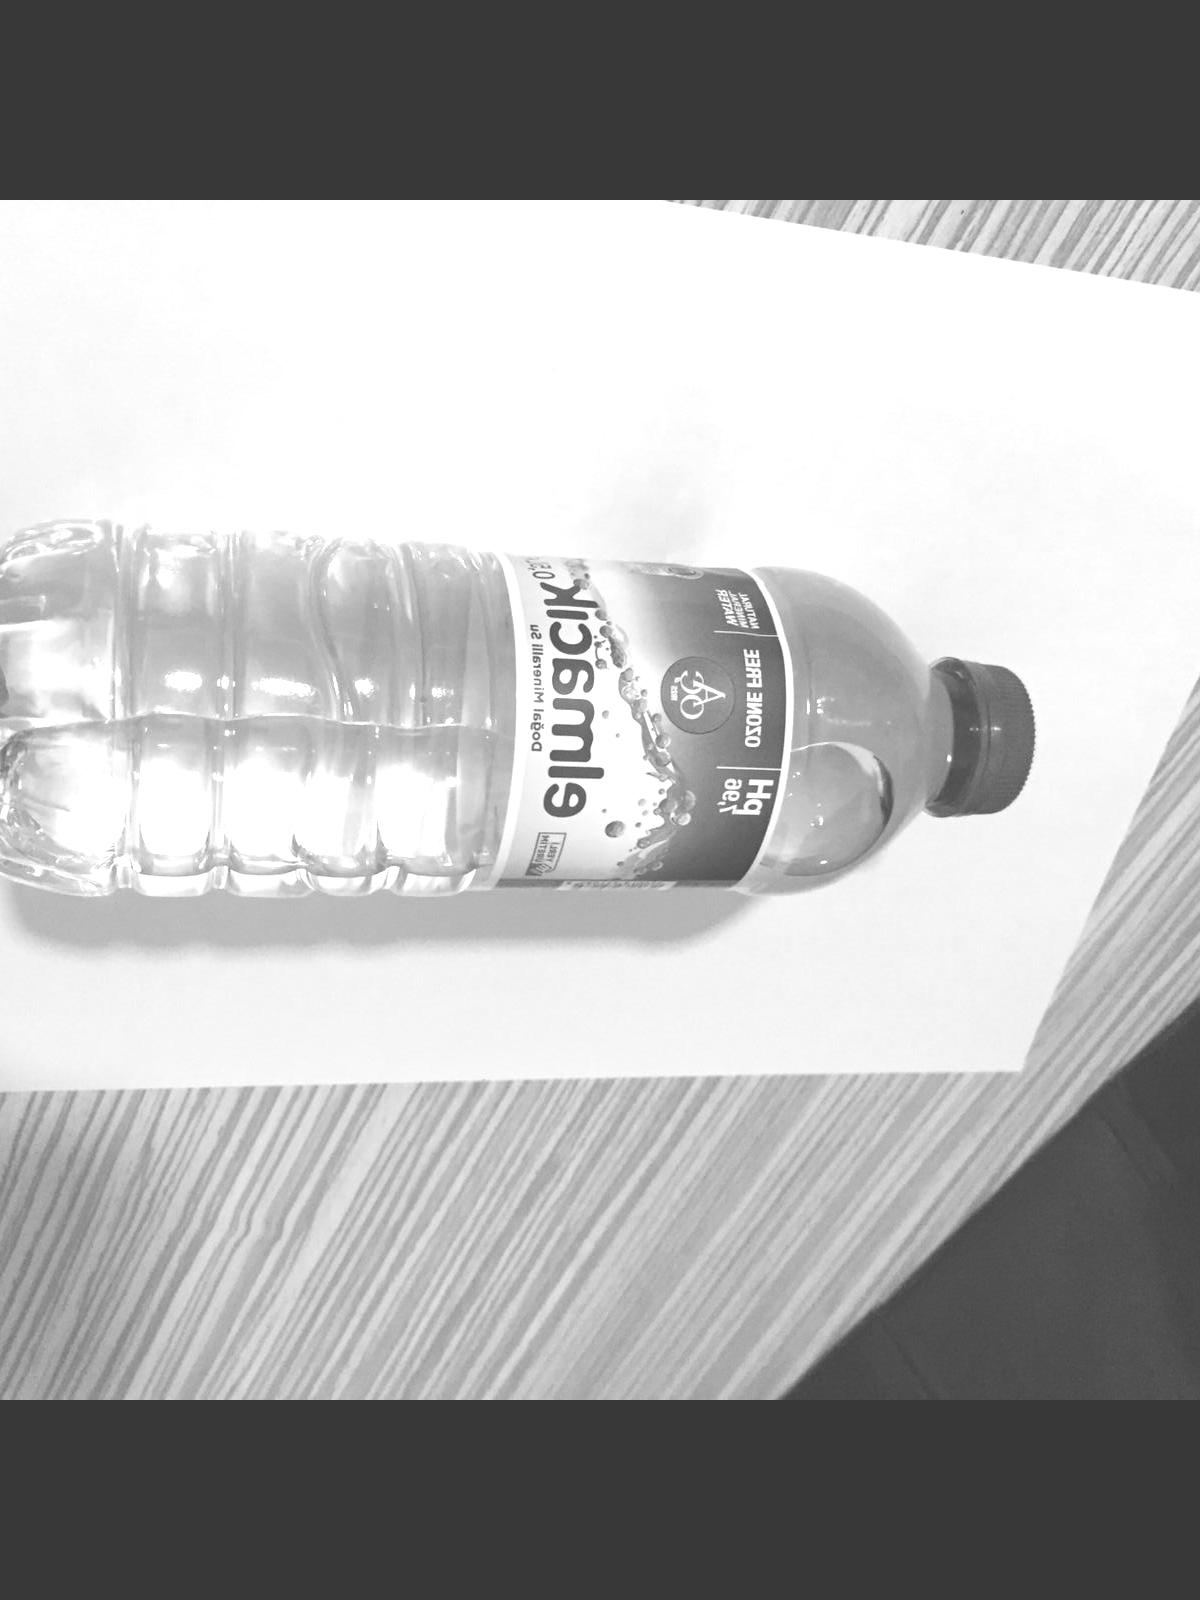bottle: (0, 523, 1039, 902)
